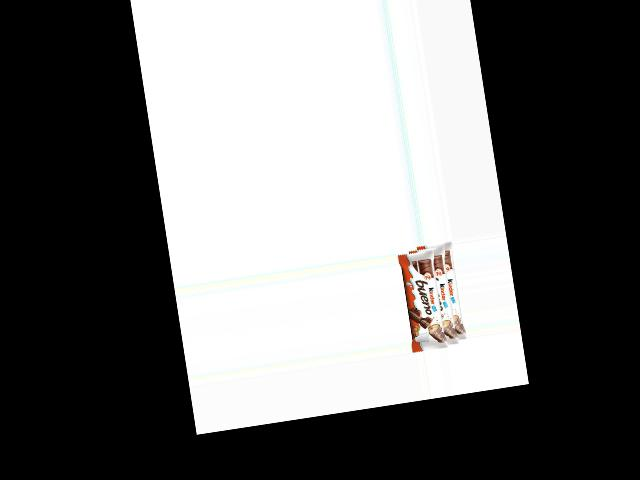chocolate: (396, 242, 467, 350)
